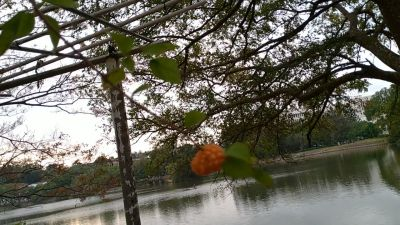eggs: (189, 141, 227, 176)
